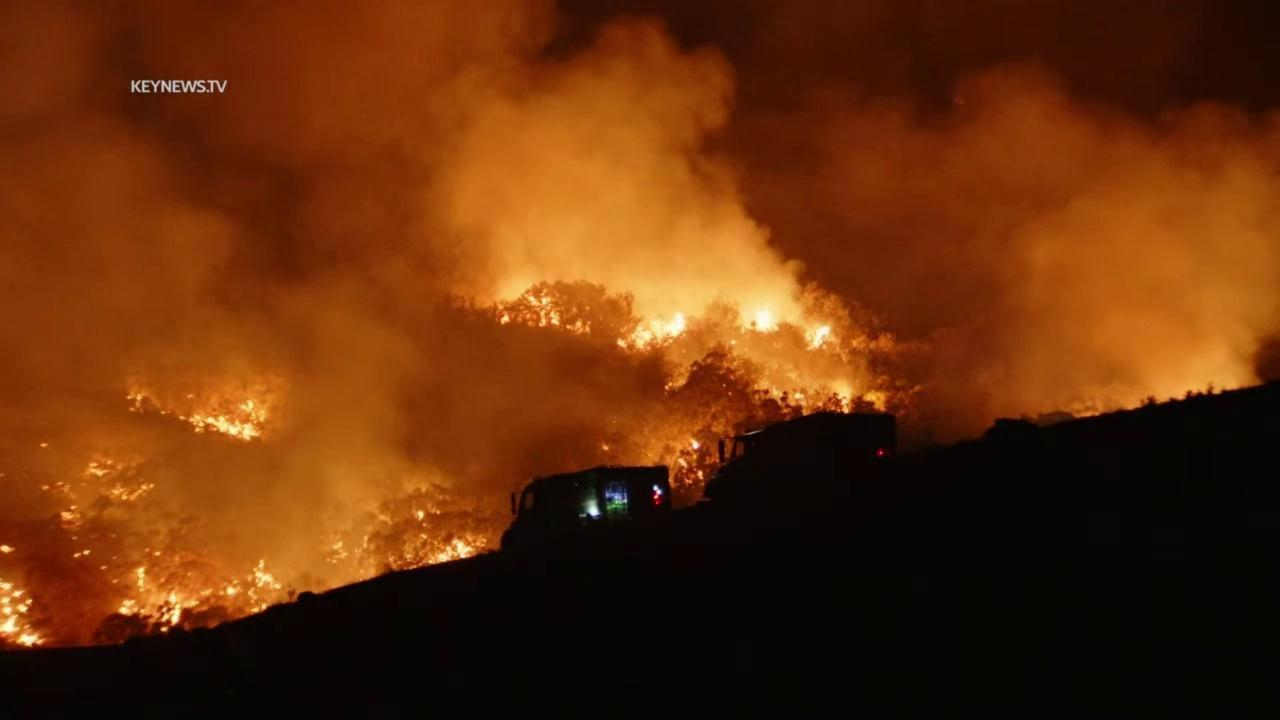fire: (155, 556, 283, 634), (186, 399, 268, 443), (84, 457, 158, 503), (0, 576, 45, 648), (615, 311, 689, 354), (496, 289, 566, 331), (403, 533, 478, 572), (750, 300, 778, 335), (322, 538, 347, 566), (809, 326, 833, 350), (119, 598, 145, 618), (674, 456, 691, 486), (130, 565, 147, 593), (836, 393, 850, 414), (414, 508, 427, 522), (792, 391, 807, 401), (0, 544, 15, 553), (694, 467, 703, 482), (689, 439, 701, 450)
smoke: (0, 0, 1280, 658)
